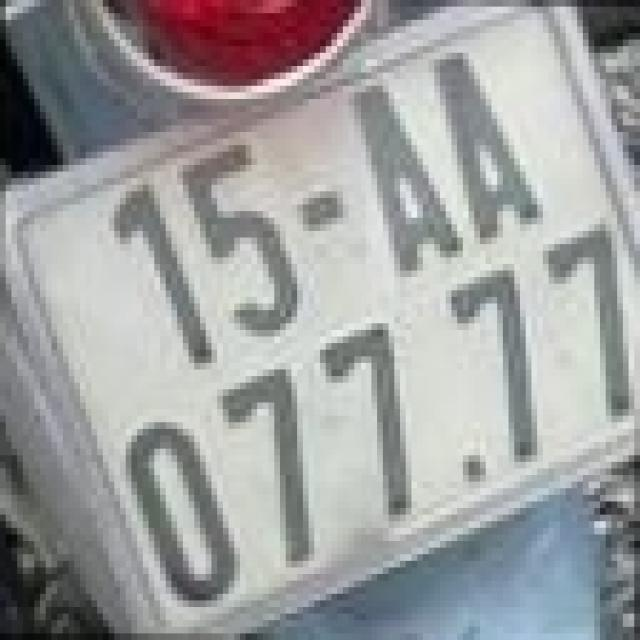0: (120, 409, 246, 607)
1: (103, 145, 217, 376)
A: (437, 33, 552, 238), (348, 76, 468, 267)
P: (183, 132, 303, 350)
